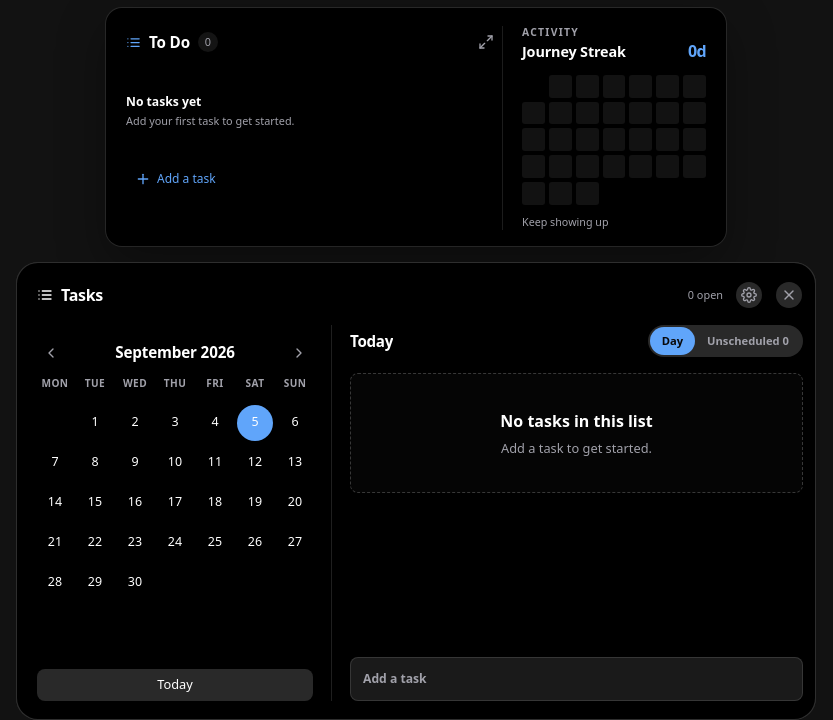
Test case: Tasks surface › creates a task from the focused form
Expected: the heading "Tasks" is shown, [61,287,103,303]
Click the button with aria-label "Add task" at coordinates (395, 678), box [350,657,803,701]
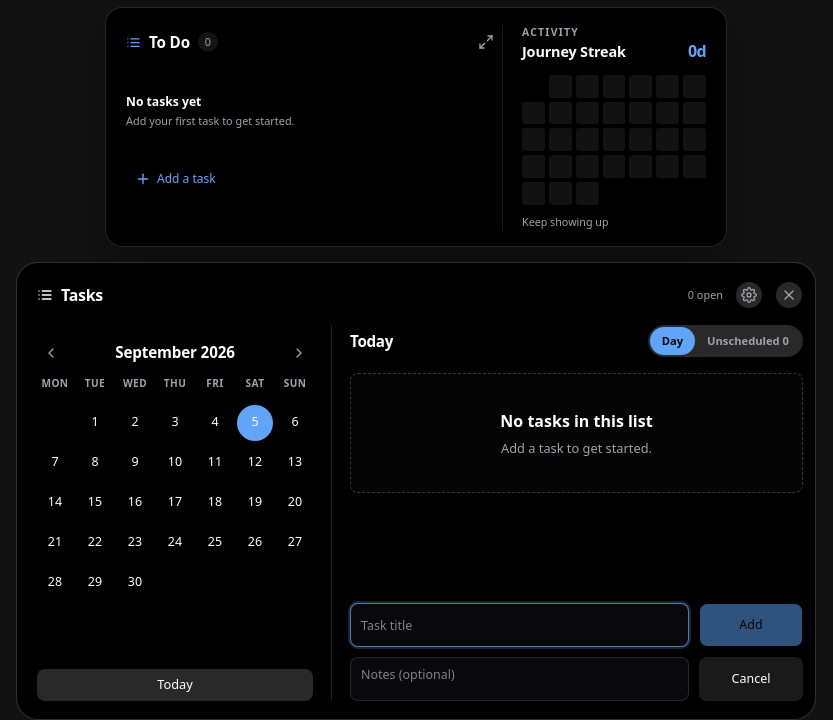
Type "Created task" into the field labelled "title" at coordinates (520, 625), box [350,603,689,647]
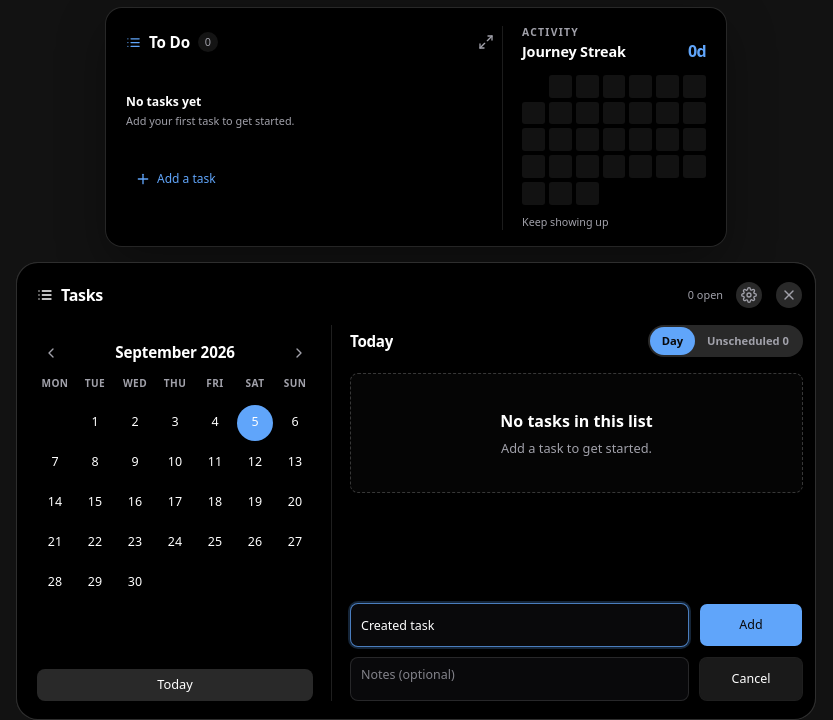
Type "A note" into the text box labelled "Notes" at coordinates (520, 679), box [350,657,689,701]
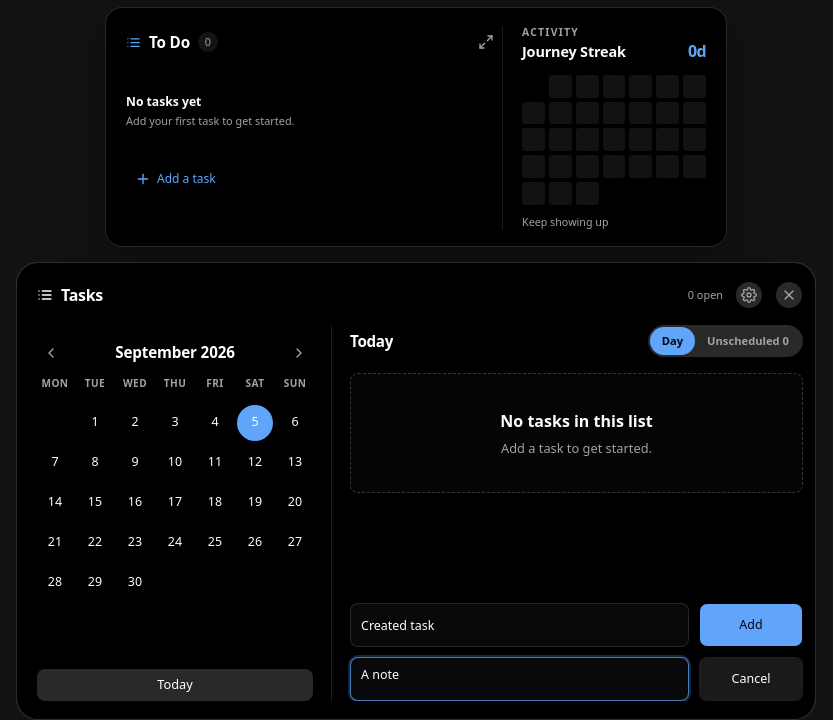
Click the button with aria-label "Add task" at coordinates (751, 625), box [699,603,803,647]
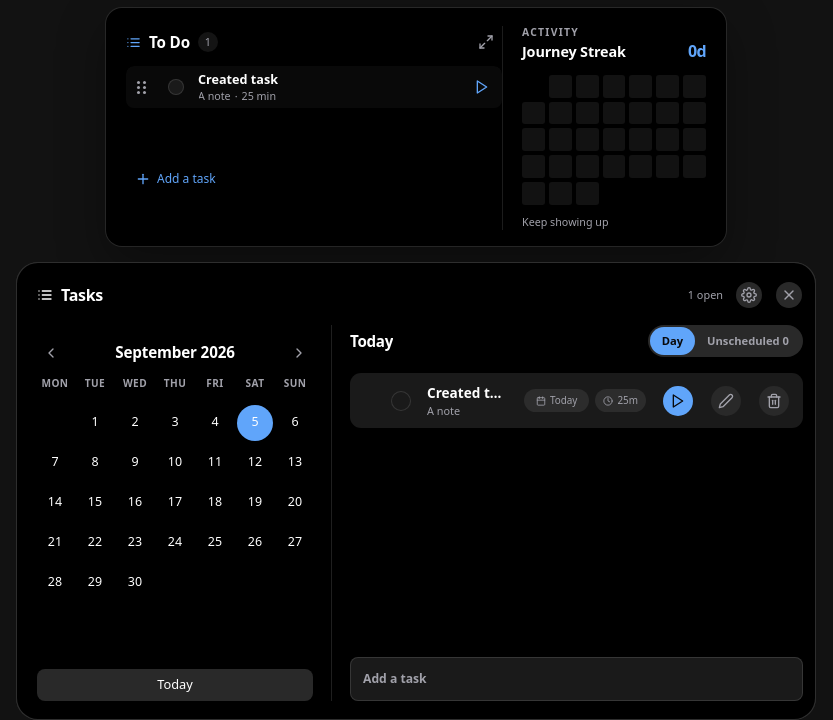
Expected: the 2nd text "Created task" is shown, [427,385,508,402]
